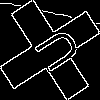U: (25, 25, 83, 80)
